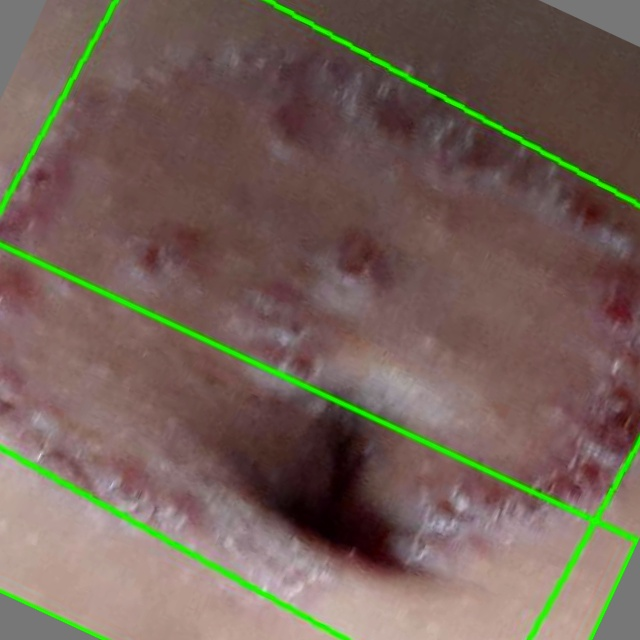Tinea Corporis: (0, 0, 639, 639), (0, 244, 637, 639)
